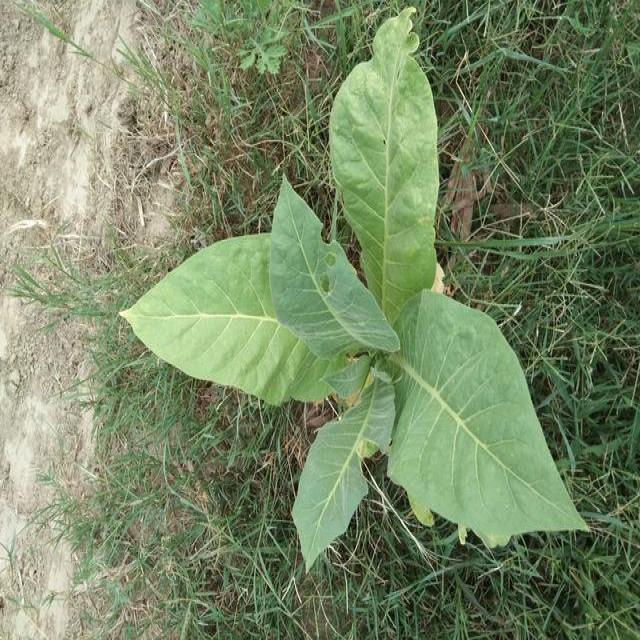crop: (120, 13, 596, 577)
